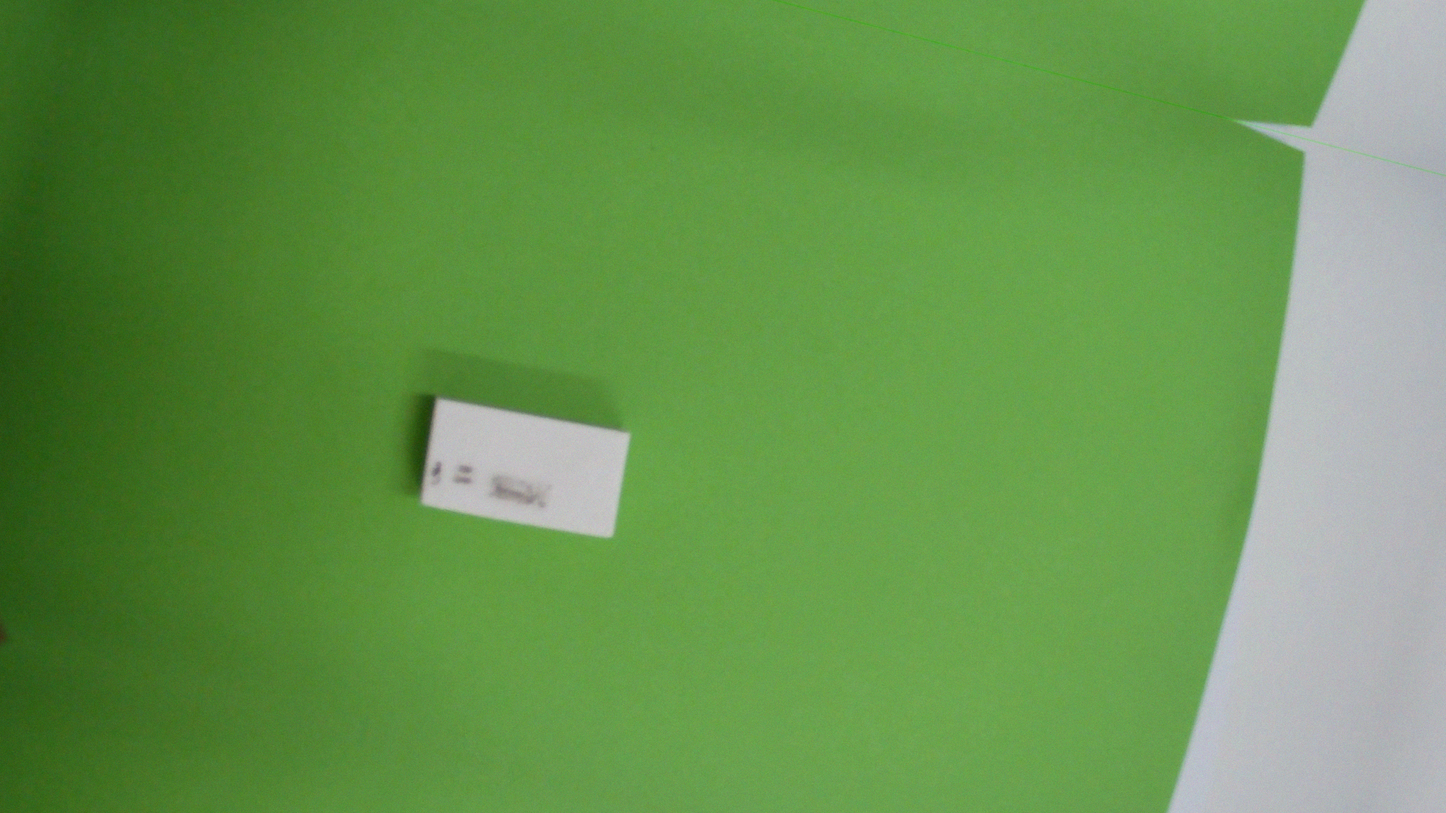gom: (402, 372, 642, 565)
